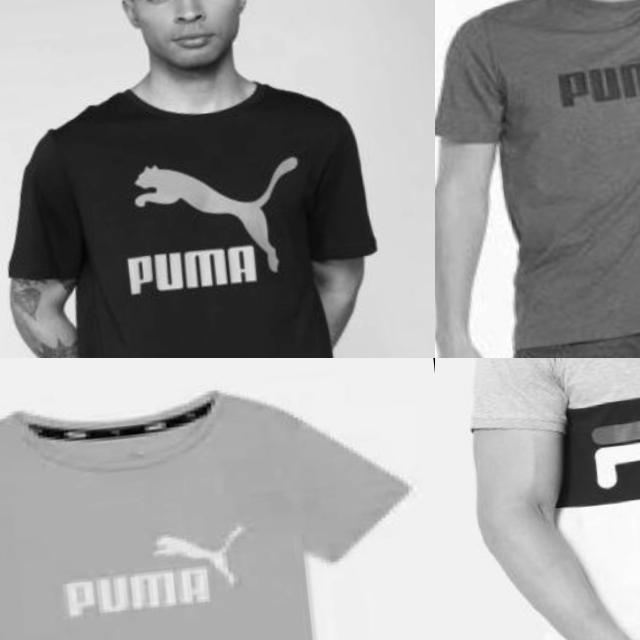FILA_original: (560, 369, 640, 520)
PUMA_original: (94, 140, 316, 298), (33, 508, 270, 640), (547, 10, 640, 115)
